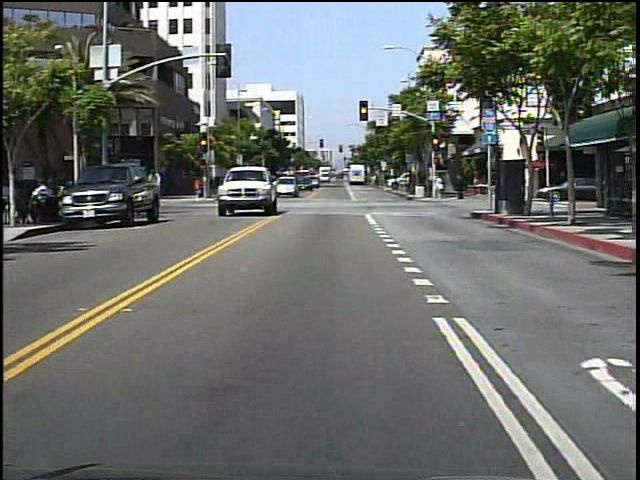person: (145, 168, 167, 205), (453, 172, 468, 205), (195, 175, 207, 199), (435, 175, 446, 199)
